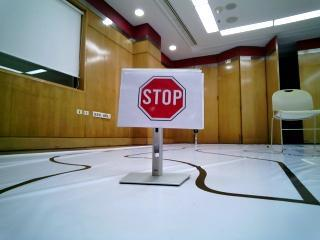stop: (117, 76, 209, 127)
